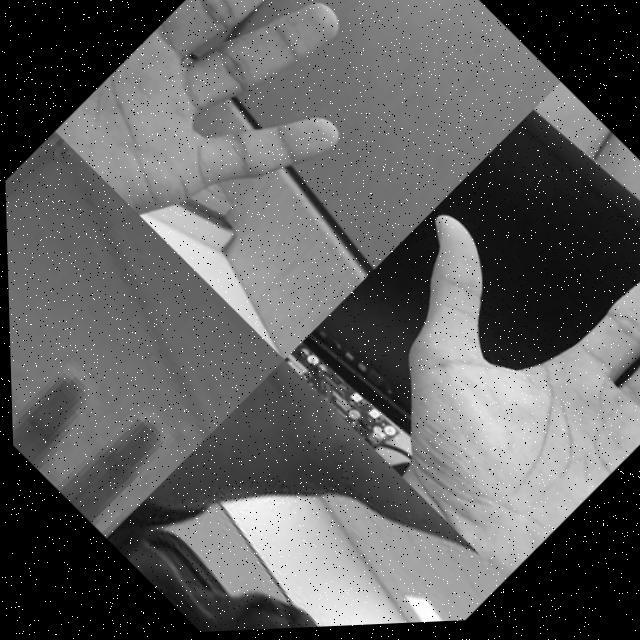no-gloves: (278, 96, 640, 592), (50, 0, 441, 287), (155, 355, 502, 635), (6, 214, 194, 542)
